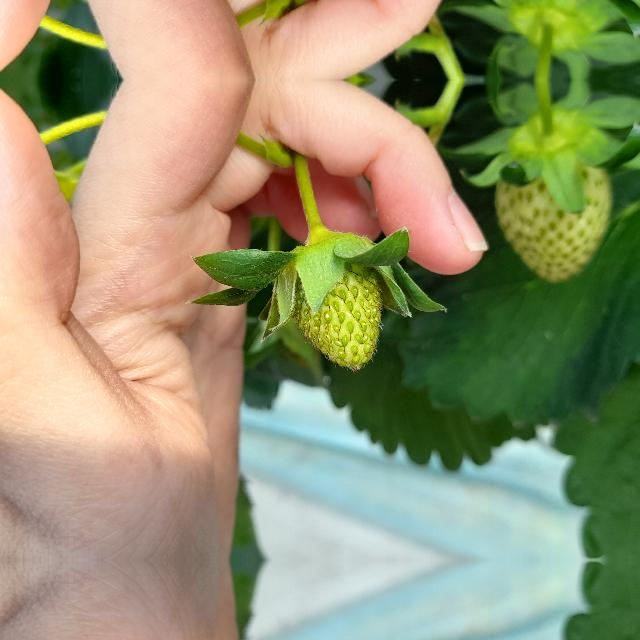Health_25: (494, 152, 614, 284), (293, 256, 382, 368)
